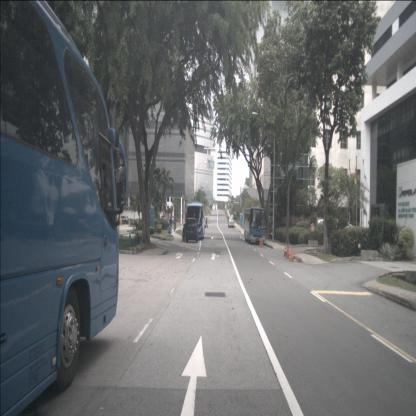human-pedestrian-adult: (169, 216, 172, 230), (174, 217, 176, 230)
movable_object-trafficcone: (289, 247, 295, 262), (285, 244, 290, 260), (283, 244, 288, 258), (260, 238, 264, 248), (258, 238, 262, 247)
vehicle-bus-rigid: (0, 1, 120, 415), (244, 206, 267, 244), (186, 203, 205, 240)
vehicle-car: (182, 218, 198, 242), (116, 215, 129, 225), (199, 216, 206, 228), (228, 216, 234, 228), (160, 216, 167, 223), (169, 216, 175, 224)
